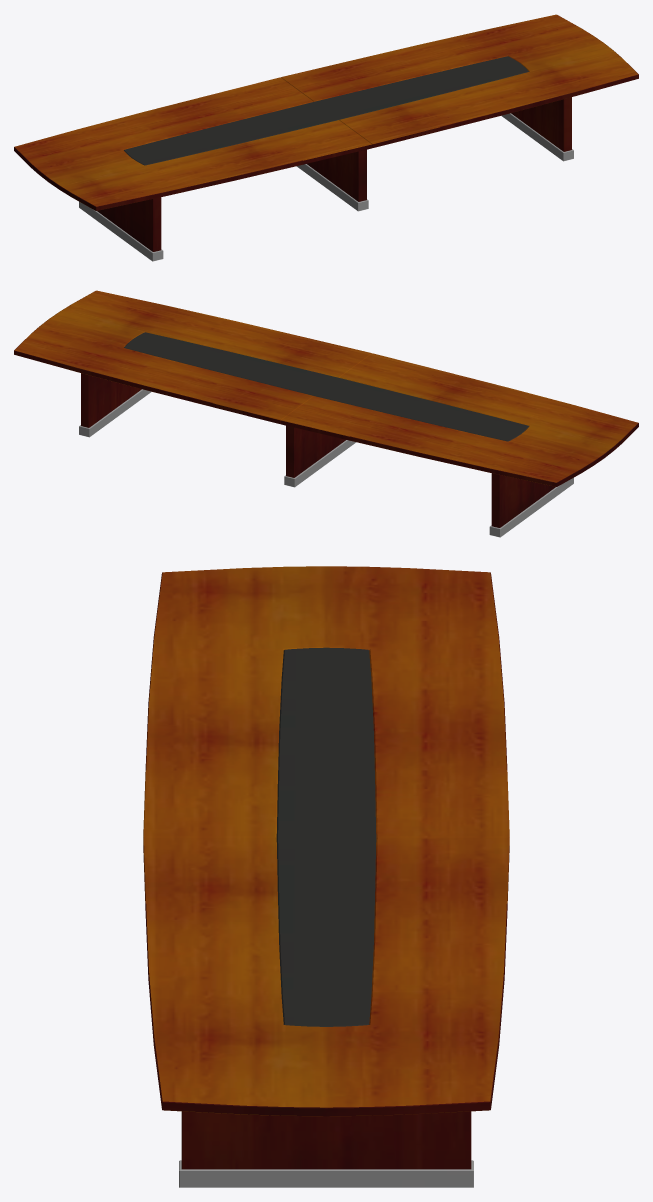
Rendered from CR_Table.glb.
3 renders of one model, top to bottom at view 1: azimuth 30°, elevation 25°; view 2: azimuth 150°, elevation 25°; view 3: azimuth 270°, elevation 25°, orthographic. The views are drawn at different scales.
Visible parts, largest first — view 1: Table; view 2: Table; view 3: Table.
Boxes of the visible parts, <box> form: Table: <box>14,14,638,261</box>; Table: <box>14,290,638,537</box>; Table: <box>143,566,509,1187</box>.
Bounding box in the file's own units: 6.65 × 0.8301 × 1.9.
Materials: 1 (1 with a texture image).
